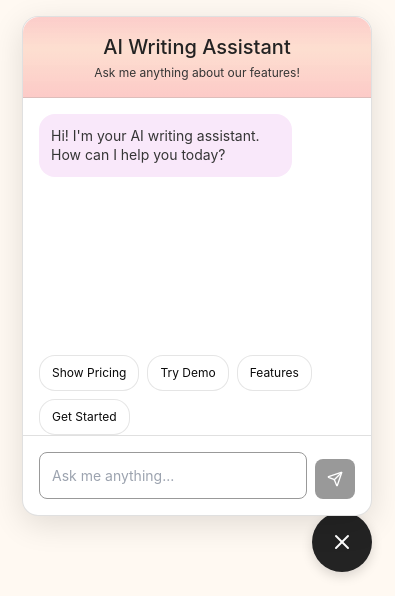
Test case: a quick-reply button sends its question and gets the matching reply
Click the button "Show Pricing" at (89,373), box [39,355,139,391]
Wait 2000 ms
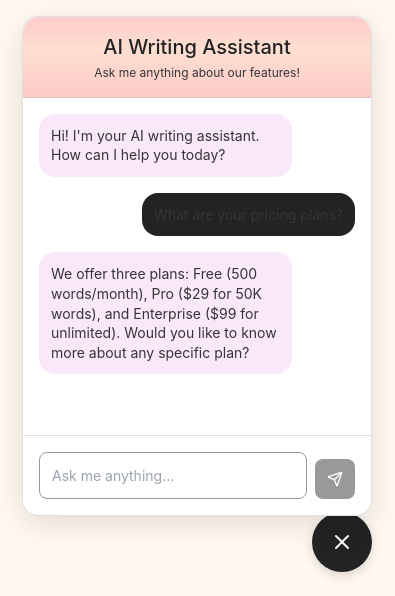
Check: the text box with placeholder "Ask me anything..." is empty, box [39,452,307,499]
Check: the text "We offer three plans: Free (500 words/month), Pro ($29 for 50K words), and Enterprise ($99 for unlimited). Would you lik" is shown, box [51,265,277,361]
